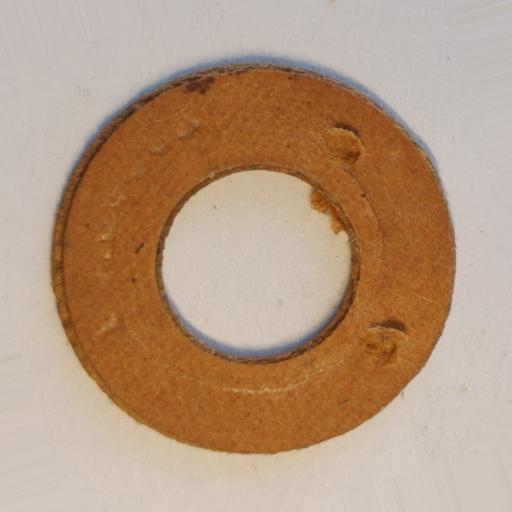defect: (359, 323, 408, 368), (325, 127, 365, 164)
